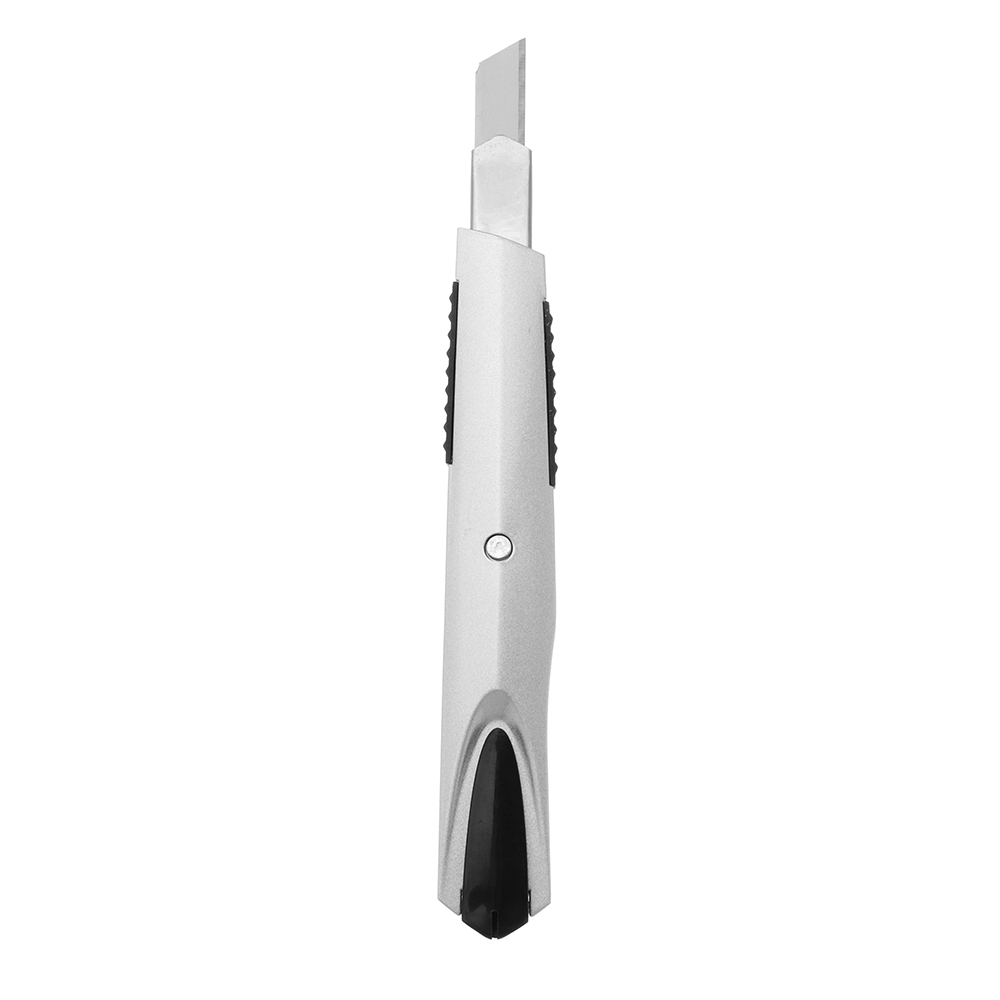knief: (418, 32, 603, 941)
